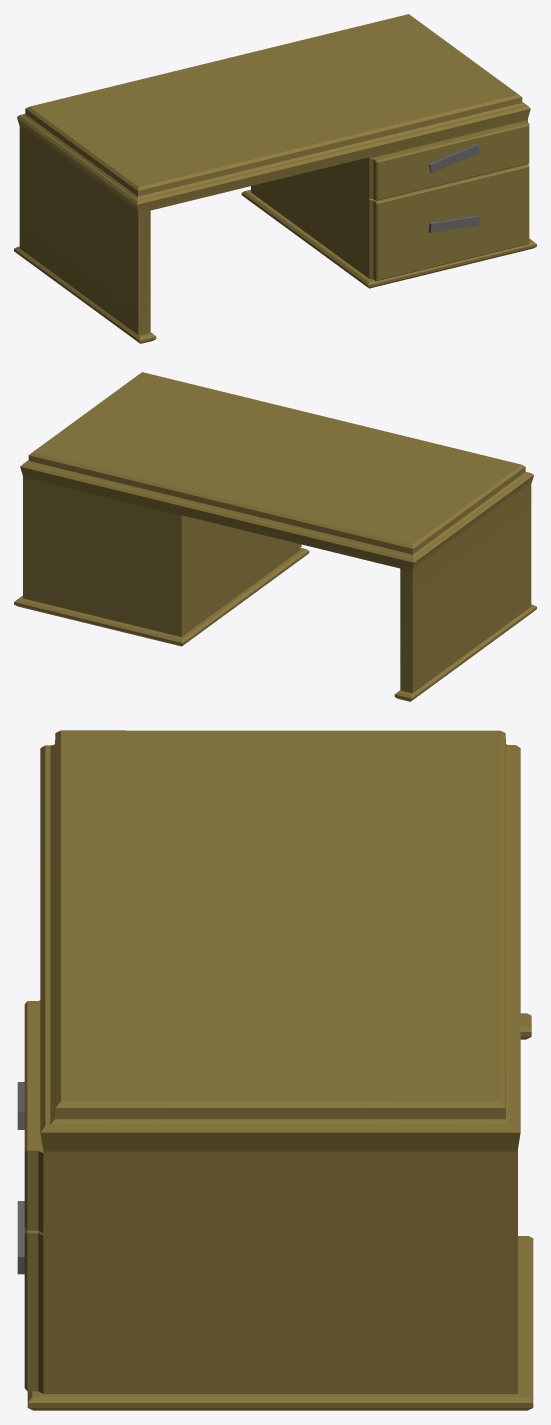
File: SM_Tabel_1.fbx
3 renders of one model, top to bottom at view 1: azimuth 30°, elevation 25°; view 2: azimuth 150°, elevation 25°; view 3: azimuth 270°, elevation 25°, orthographic. The views are drawn at different scales.
Visible parts, largest first — view 1: Table1; view 2: Table1; view 3: Table1.
Part boxes in pixels (x1,y1,x2,y2): Table1: (14,14,536,343); Table1: (14,372,536,701); Table1: (17,730,533,1410).
Bounding box in the file's own units: 2.91 × 1.06 × 1.64.
